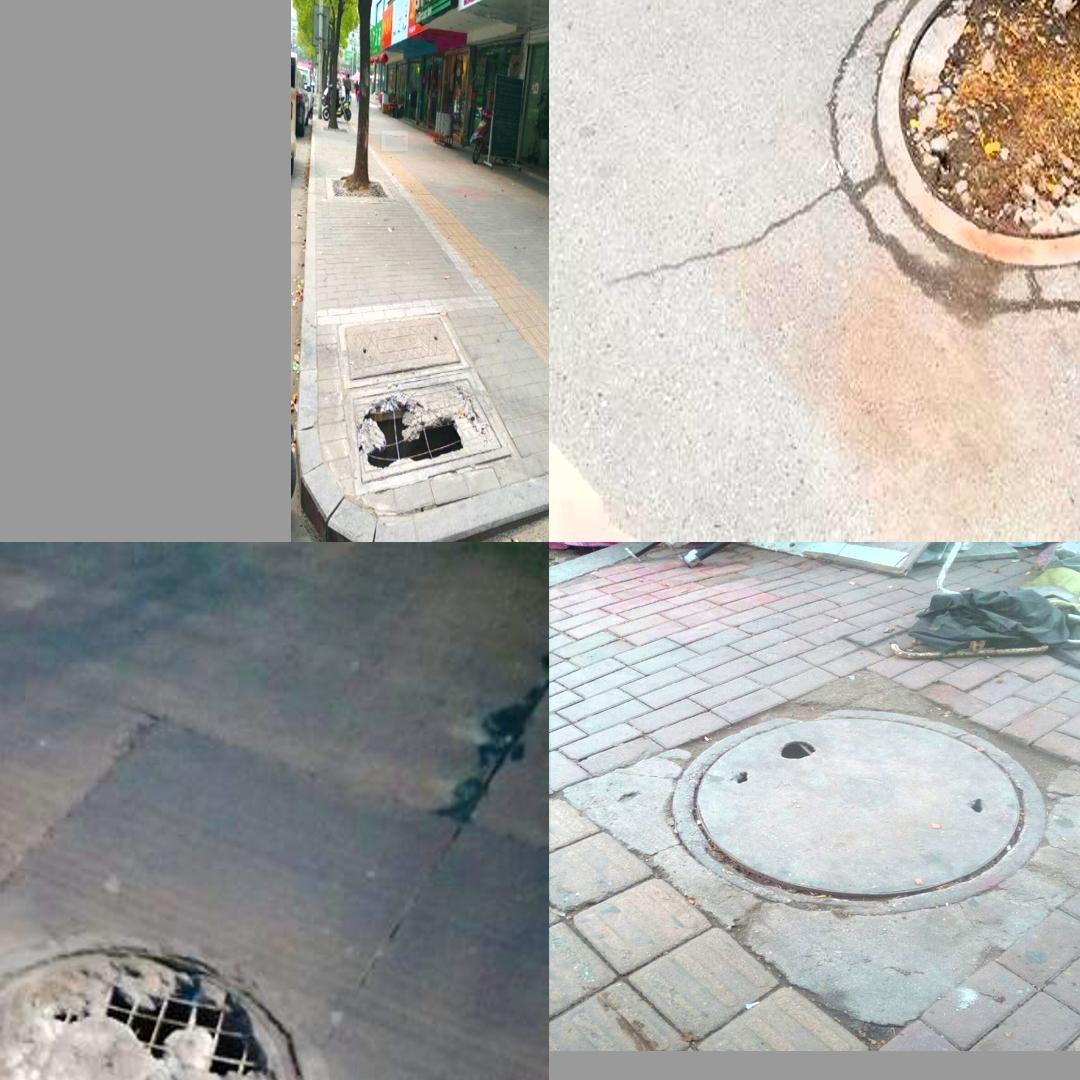broke: (842, 0, 1080, 336), (669, 709, 1050, 916), (0, 916, 340, 1080), (347, 372, 510, 495)
good: (338, 311, 468, 388)
